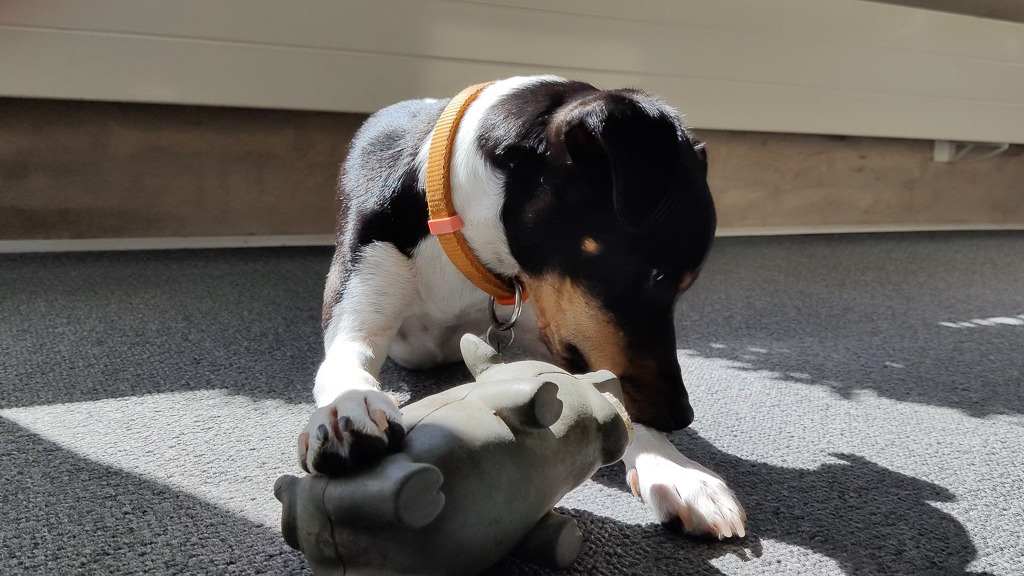Dog: (276, 61, 786, 550)
